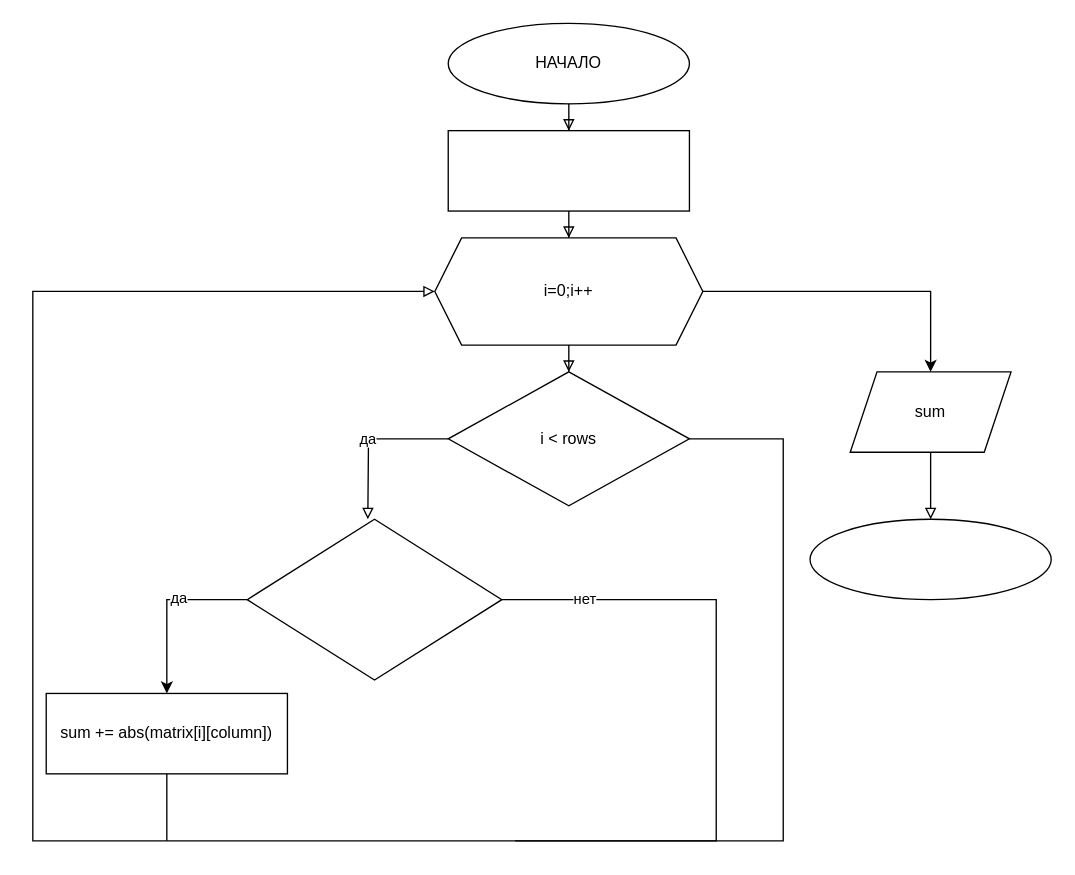
This 1075x875 diagram has some shape labels left out. Each missing label, with the centre of its shape:
matrix[i][column] < 0 && matrix[i][column] % 2 != 0: pixel 374 599
sum = 0: pixel 568 170
КОНЕЦ: pixel 930 559
